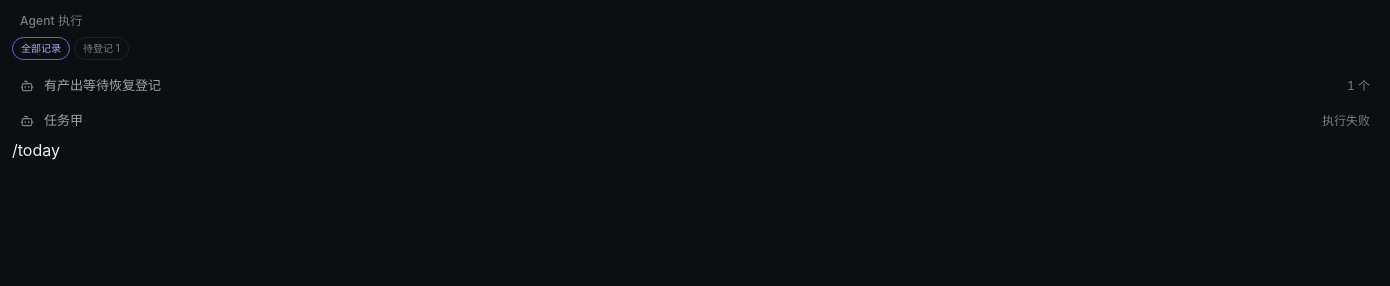
AgentsTab › displays only the fixed explanation for AGENT_MODEL_TRUNCATED in exact Run detail
This screenshot has width=1390, height=286.
Click the text "任务甲" at (64, 120), box [44, 112, 83, 128]
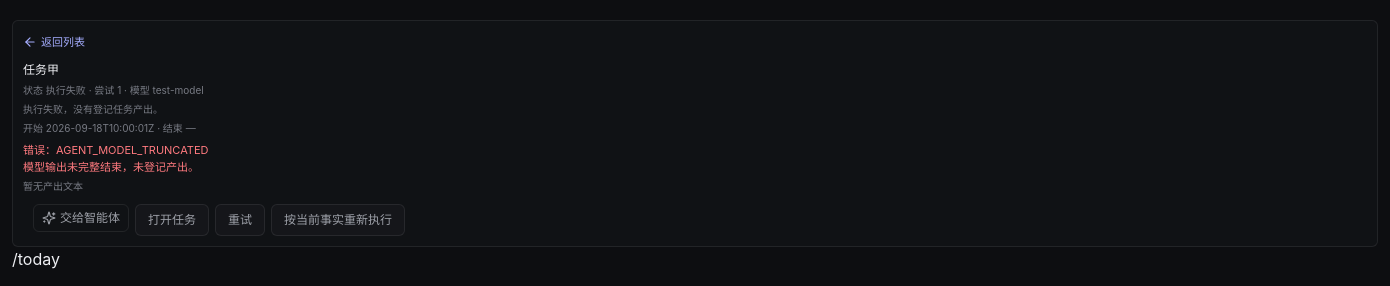
Expected: the text "模型输出未完整结束，未登记产出。" is shown, [23, 160, 199, 174]
